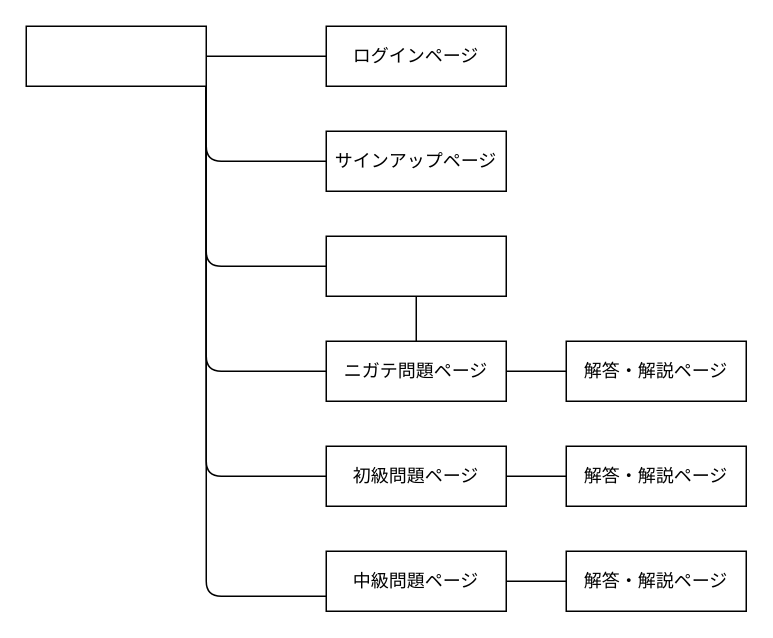
The diagram is 773 pixels wide and 638 high, and some of its shapes have lost their labels. Here are the shapes that lost their labels. From the top down, the centre of each, then its label:
At pixel 115 55: "一覧ページ (トップページ)".
At pixel 415 265: "ユーザーマイページ".
